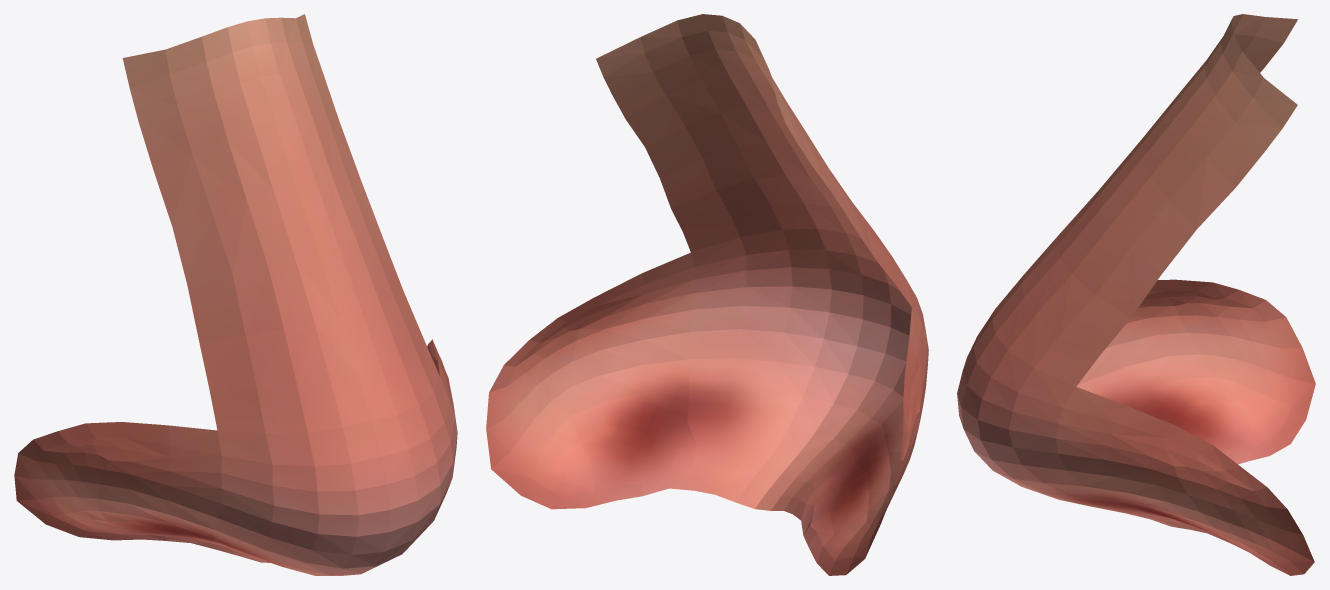
Rendered from euro-fem-nostrils-large.obj.
3 renders of one model, left to right at view 1: azimuth 30°, elevation 25°; view 2: azimuth 150°, elevation 25°; view 3: azimuth 270°, elevation 25°, orthographic. The views are drawn at different scales.
Parts seen in each view (by area): view 1: euro-fem-nostrils-lar.001; view 2: euro-fem-nostrils-lar.001; view 3: euro-fem-nostrils-lar.001.
Boxes of the visible parts, bbox=[...] form: euro-fem-nostrils-lar.001: bbox=[14, 14, 457, 575]; euro-fem-nostrils-lar.001: bbox=[486, 14, 928, 575]; euro-fem-nostrils-lar.001: bbox=[957, 14, 1315, 575].
Size of the model in its own units: 0.2009 by 0.2456 by 0.1601.
Materials: 1 (1 with a texture image).
